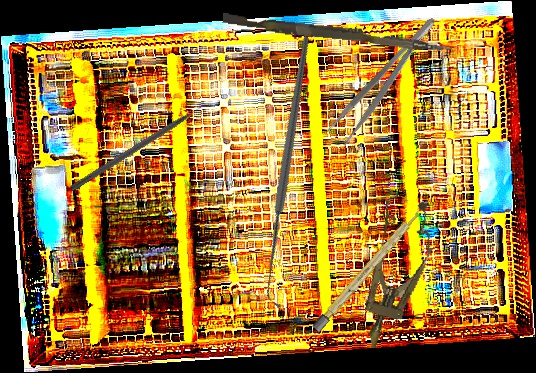Dressing Forceps: (324, 13, 449, 148)
Hook Surgical: (159, 33, 424, 309), (69, 97, 214, 194)
Pusher: (221, 12, 454, 54)
Scalpel Handle: (311, 205, 425, 333)
Speculum: (343, 188, 445, 357)
